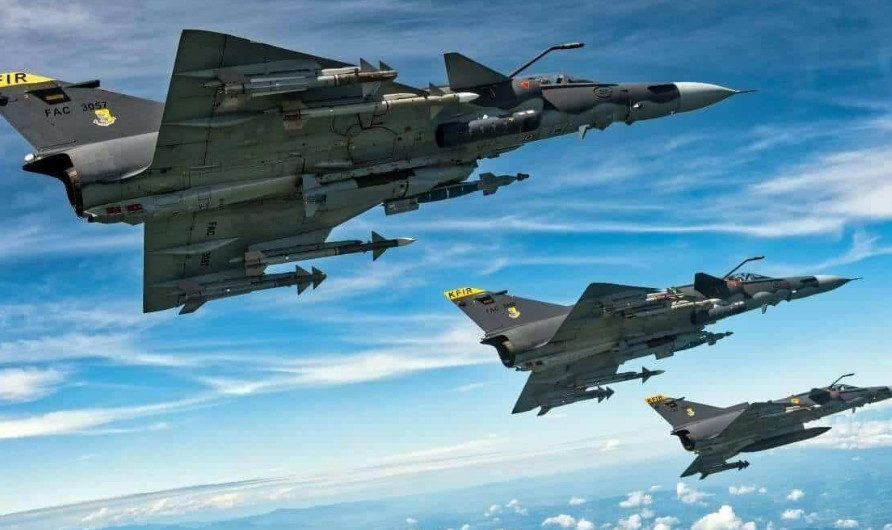airplane: (1, 28, 755, 315), (435, 260, 866, 419), (641, 379, 892, 479)
